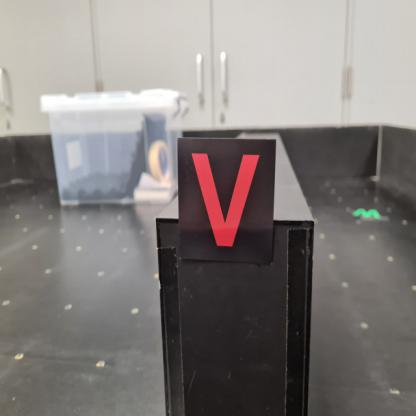v: (177, 138, 277, 264)
